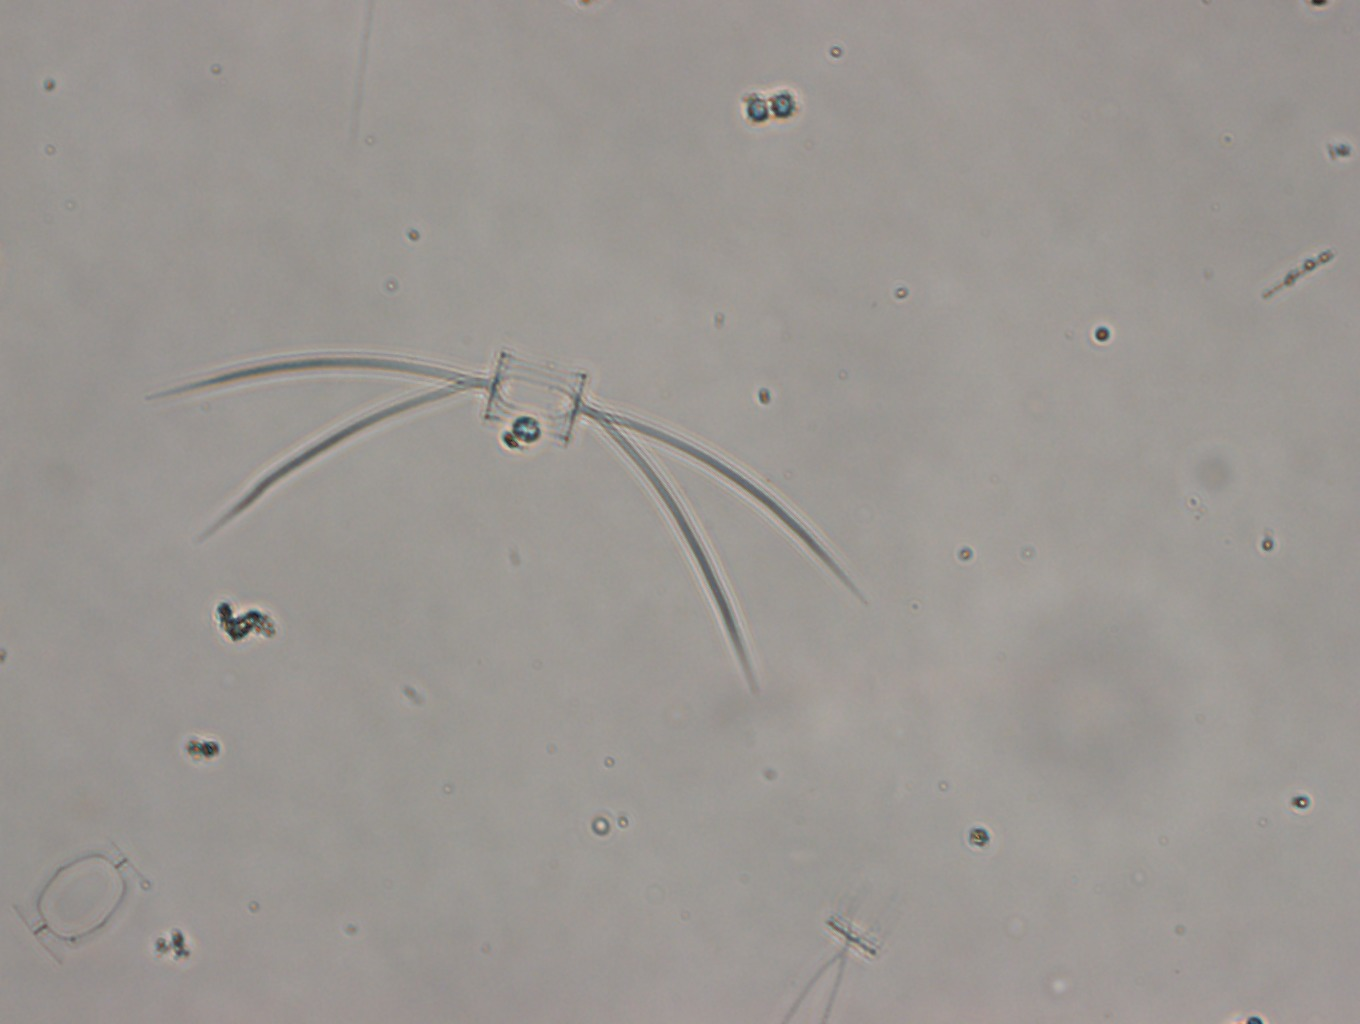chaetoceros: (141, 349, 868, 705)
